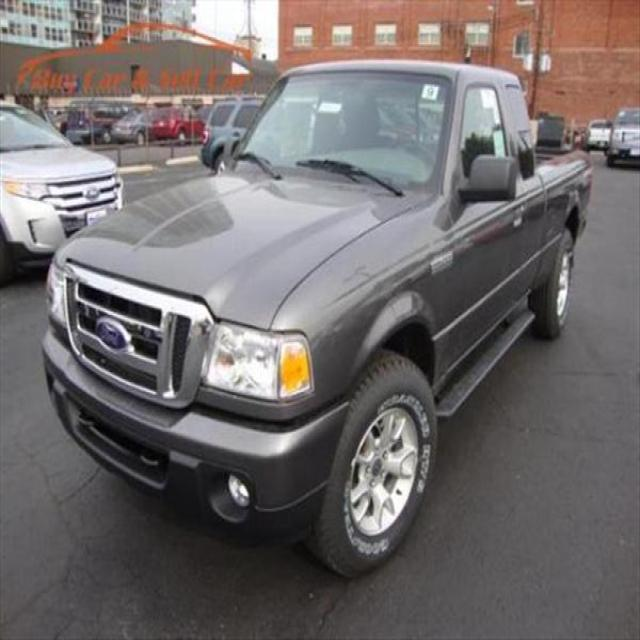Car: (35, 56, 612, 590)
